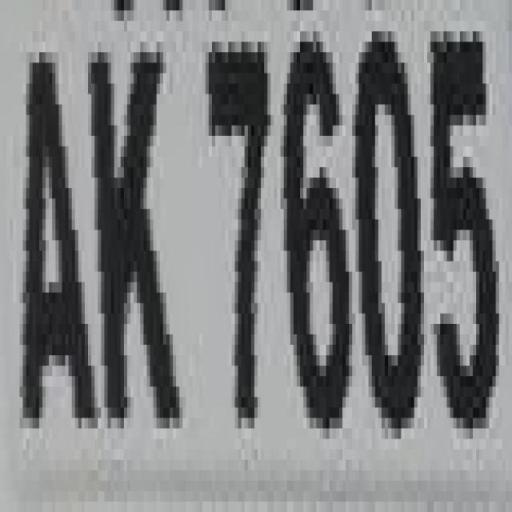number plate: (3, 0, 512, 502)
